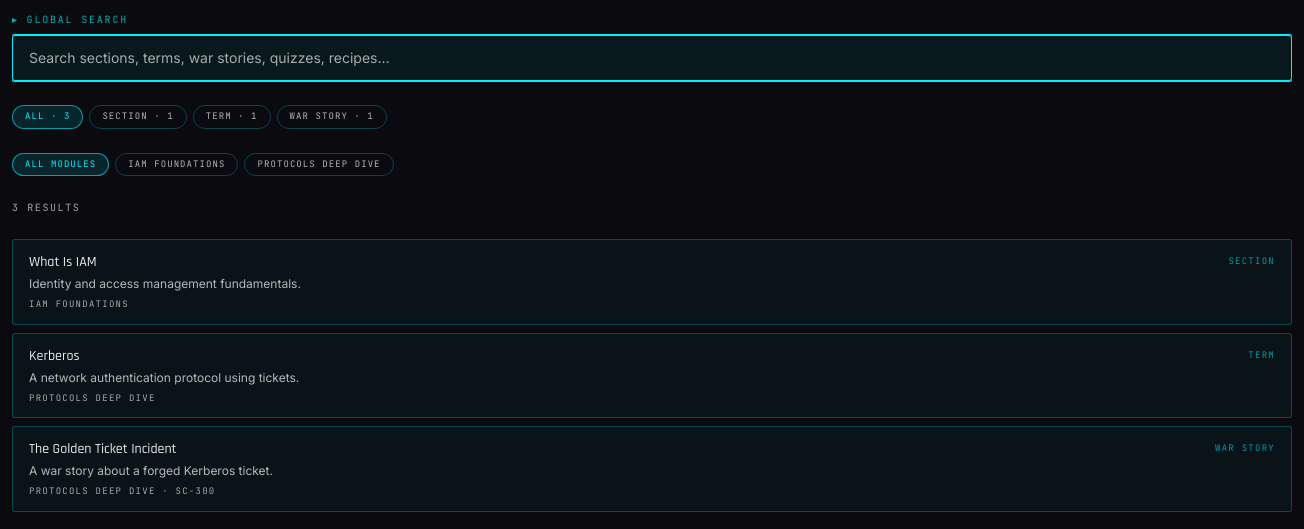
Test: SearchResults › restricts results to a single type when a type filter chip is clicked
What coordinates should you click on to do the following:
click the button "WAR STORY · 1"
I would click on:
 (332, 117)
Its box is left=276, top=105, right=387, bottom=128.
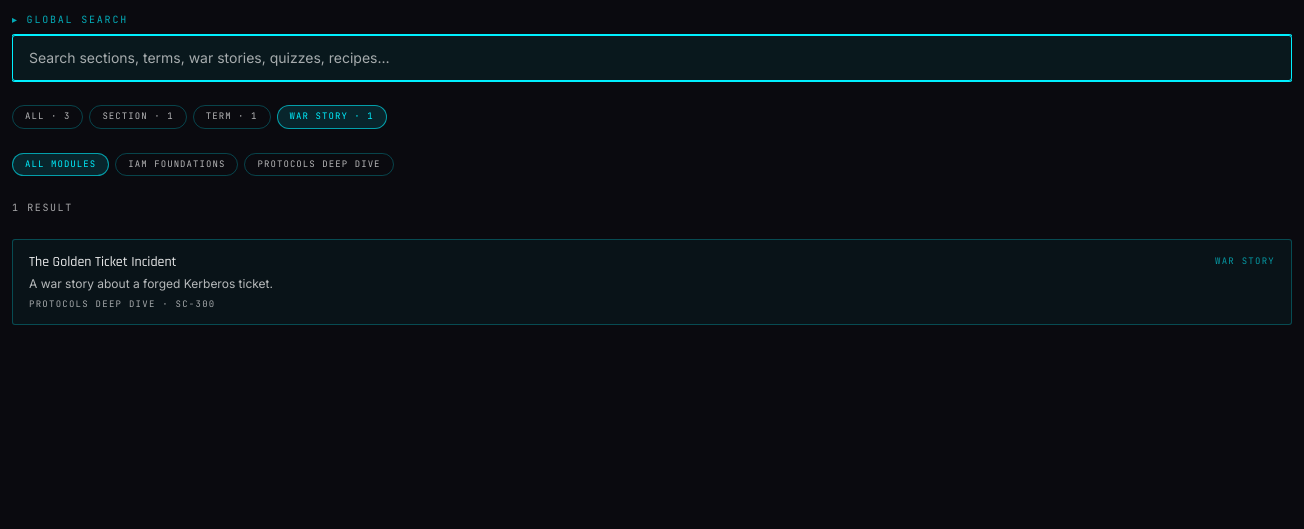
Check: the text "The Golden Ticket Incident" is shown, box left=29, top=252, right=176, bottom=272
Check: the link "What Is IAM" is gone
